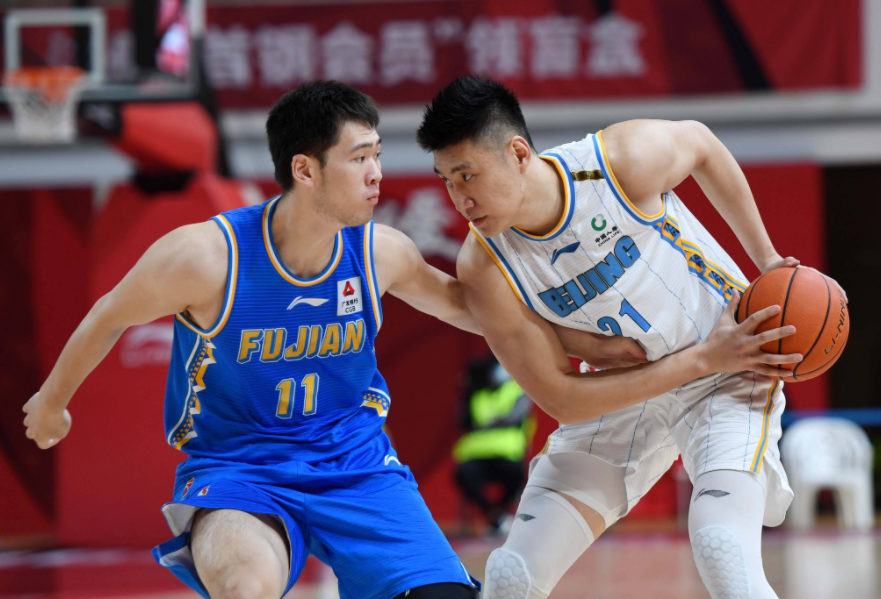ball: (734, 266, 850, 382)
